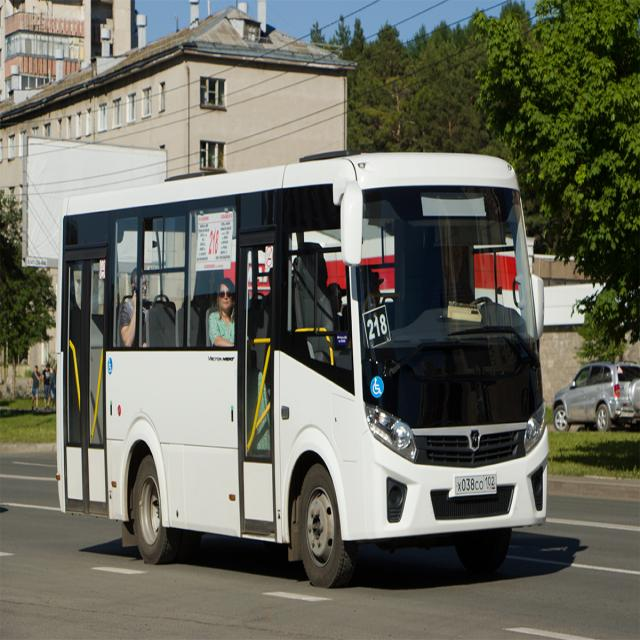number-of-bus: (366, 312, 390, 343), (209, 231, 221, 257)
